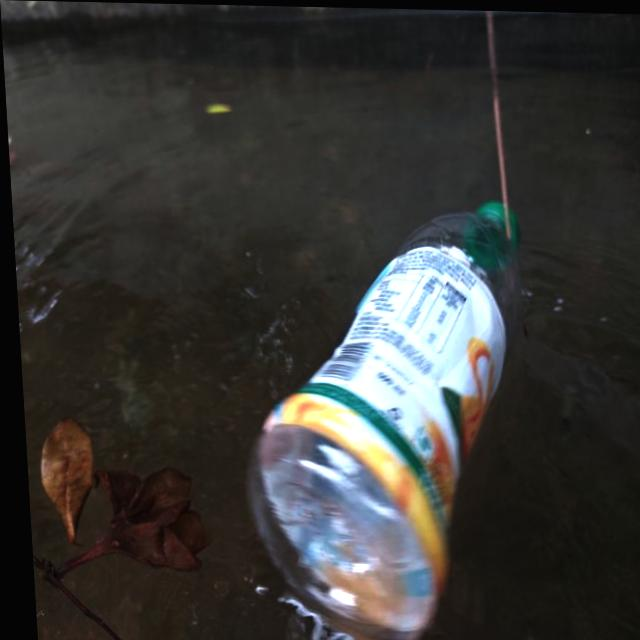leaf: (19, 403, 211, 633)
waterbottle: (234, 172, 588, 621)
